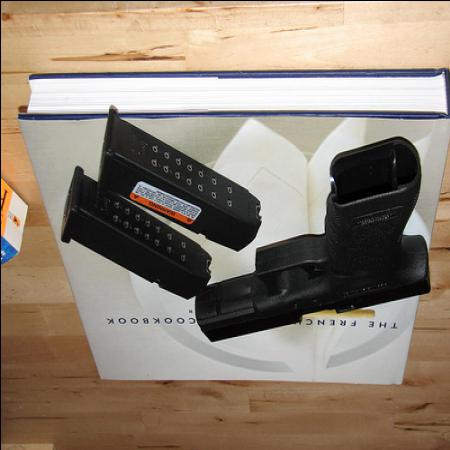Pistol: (195, 140, 433, 344)
